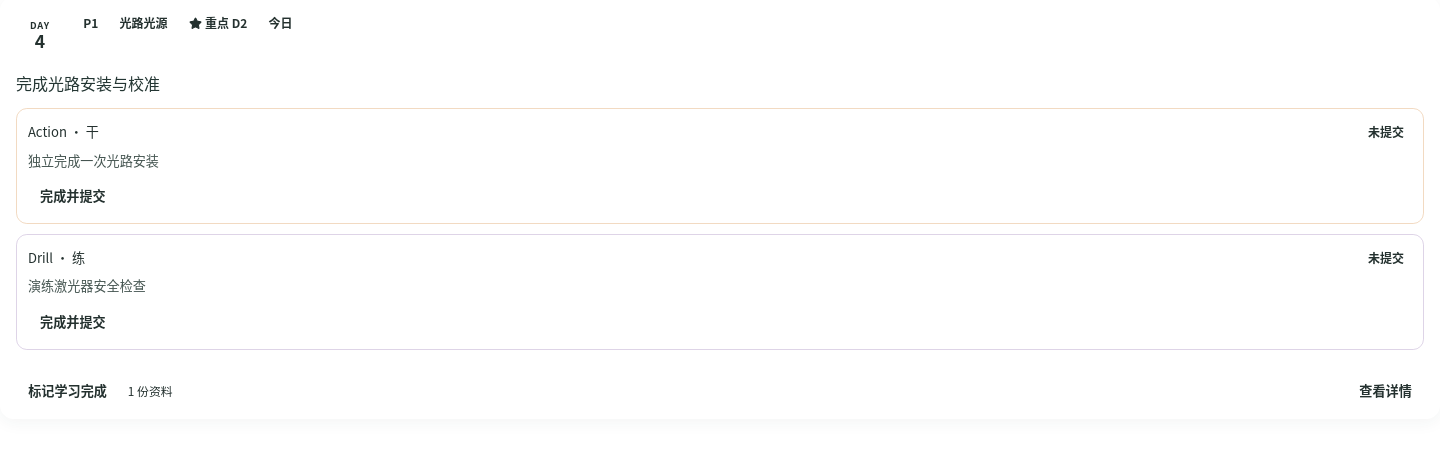
Scenario: TrainingTaskCard › announces a Chinese error and keeps server state when a mutation fails
This screenshot has width=1440, height=449.
Click the button "标记学习完成" at (68, 391), box x1=16 y1=375 x2=119 y2=408
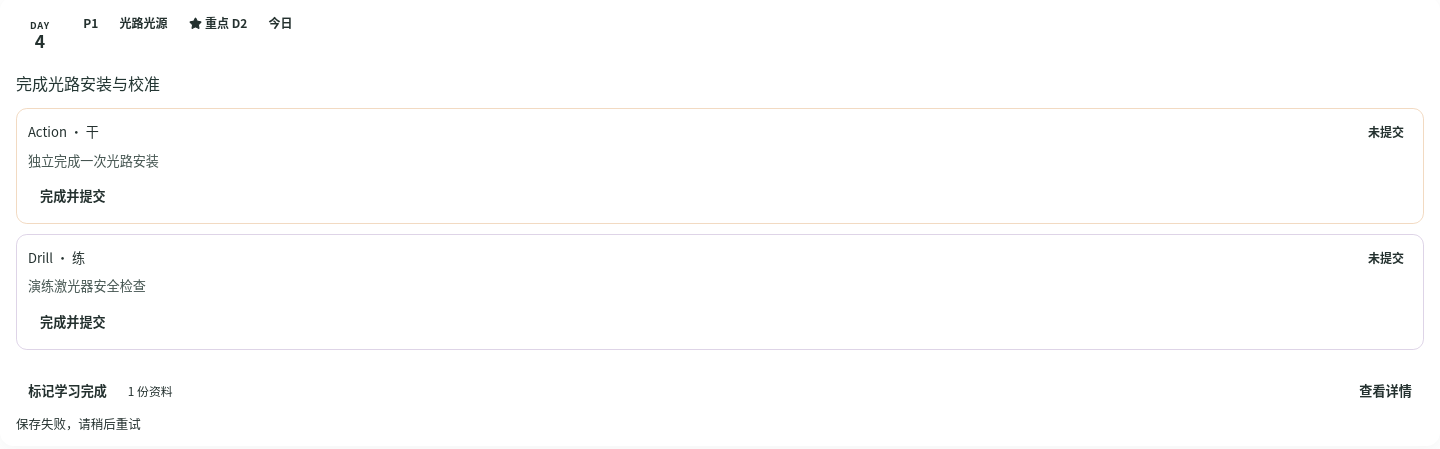
Now the message reads "保存失败，请稍后重试", box x1=16 y1=415 x2=141 y2=433
